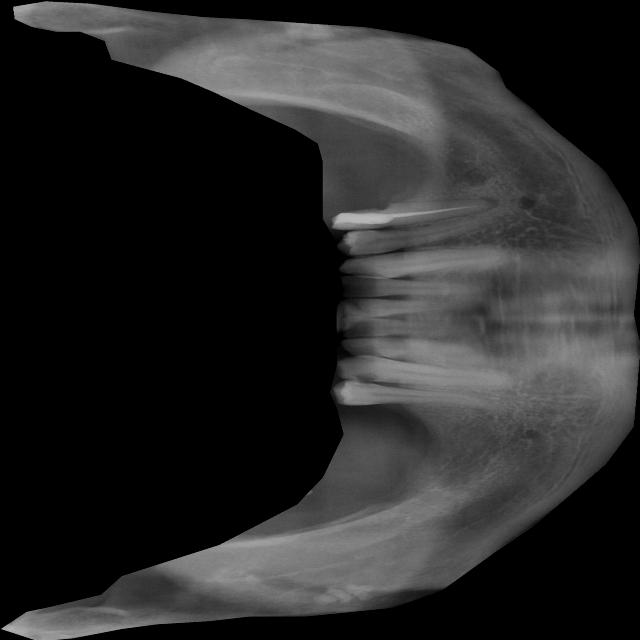mandibula: (1, 0, 640, 640)
